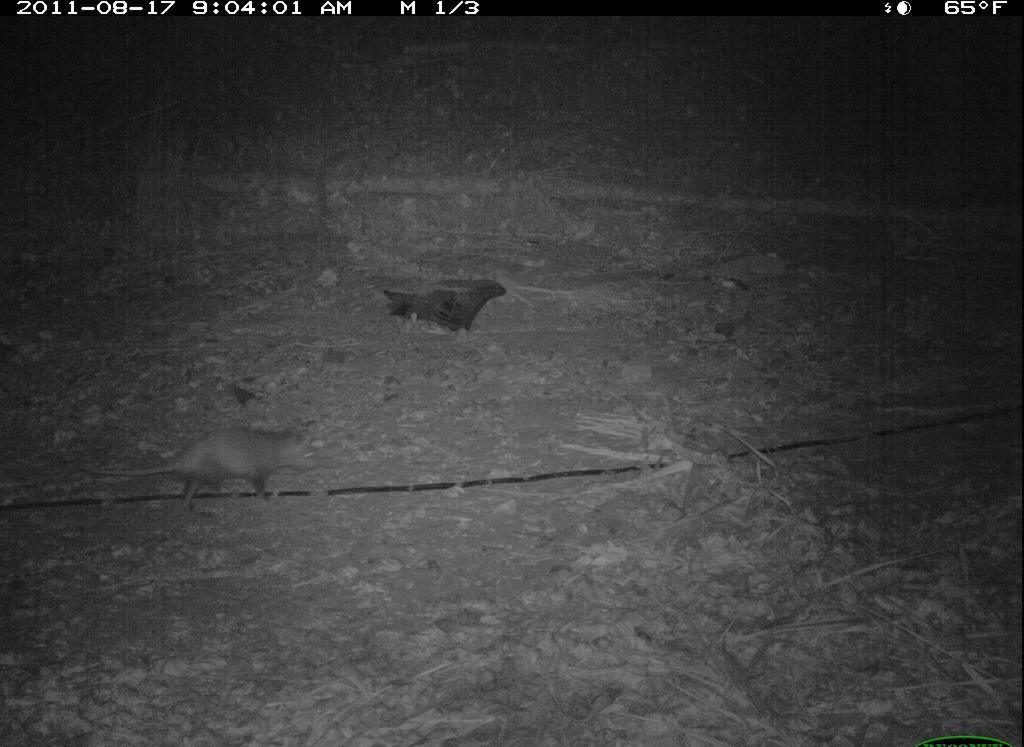opossum: (123, 420, 324, 513)
